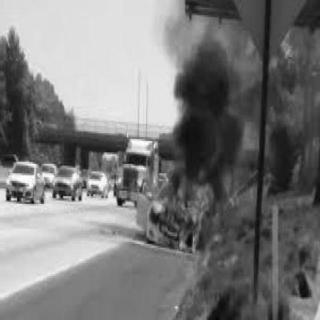Fire: (157, 158, 219, 250)
